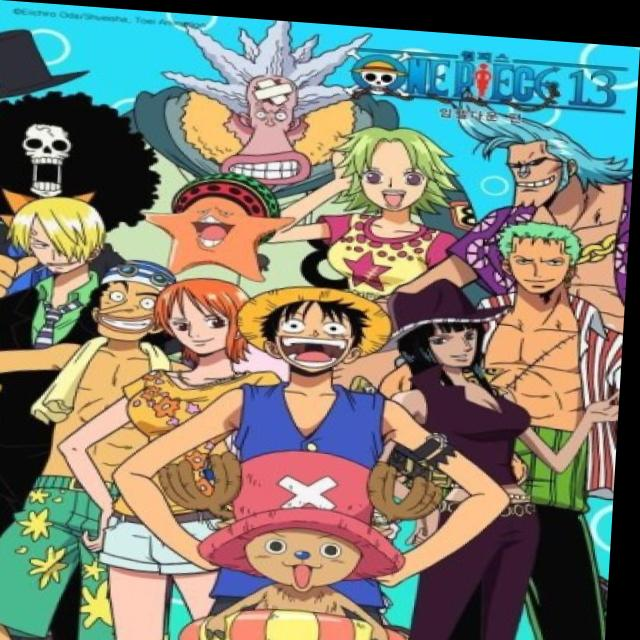Blook: (0, 86, 156, 231)
Chyopa: (157, 435, 447, 640)
Franky: (453, 94, 622, 206)
Luffy: (232, 270, 408, 376)
Nami: (156, 271, 269, 364)
NicoRobin: (404, 272, 525, 383)
Sangdi: (4, 180, 124, 283)
Usopp: (85, 250, 170, 349)
Zoro: (495, 203, 594, 293)
